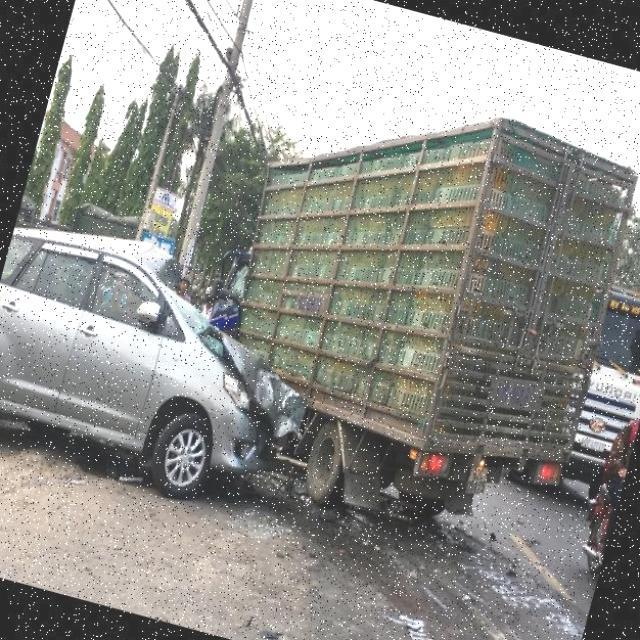accident: (80, 199, 401, 553)
